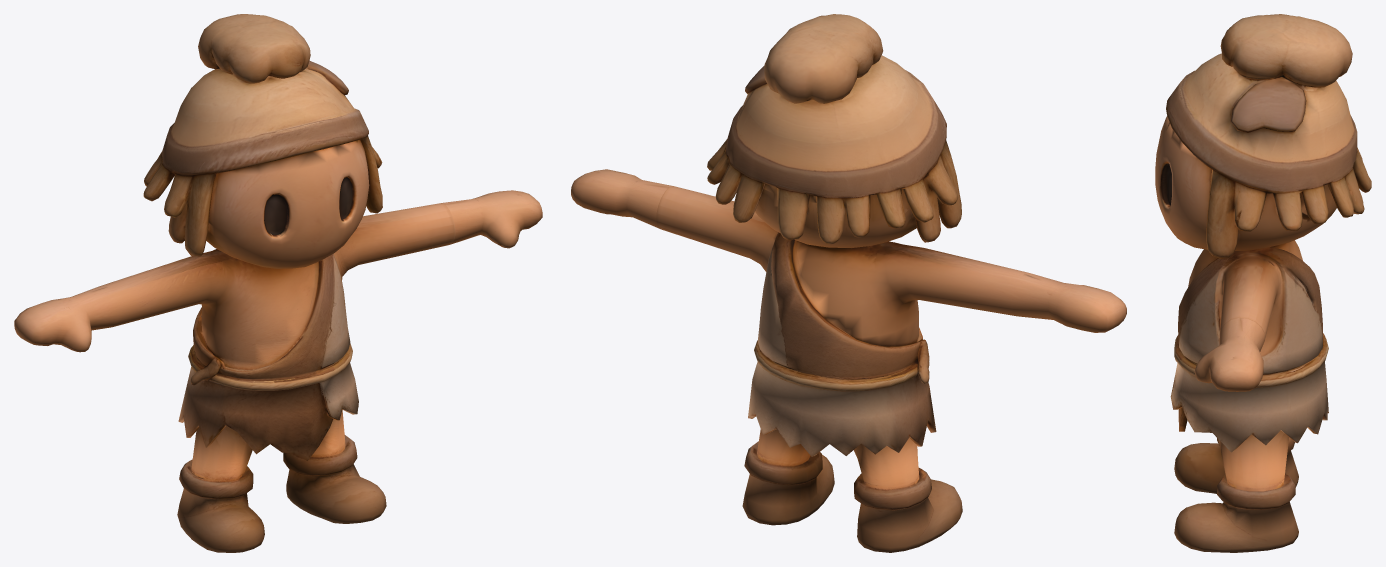
Rendered from resident_bun_lowpoly_textured.glb.
3 renders of one model, left to right at view 1: azimuth 30°, elevation 25°; view 2: azimuth 150°, elevation 25°; view 3: azimuth 270°, elevation 25°, orthographic. The views are drawn at different scales.
Parts seen in each view (by area): view 1: mesh_rep_0_ori_repair_quad; view 2: mesh_rep_0_ori_repair_quad; view 3: mesh_rep_0_ori_repair_quad.
Boxes of the visible parts, box(x1,y1,x2,y2) form: mesh_rep_0_ori_repair_quad: box(14, 14, 542, 552); mesh_rep_0_ori_repair_quad: box(571, 14, 1126, 552); mesh_rep_0_ori_repair_quad: box(1155, 14, 1371, 552).
Bounding box in the file's own units: 1 × 0.8828 × 0.3555.
Materials: 1 (1 with a texture image).
